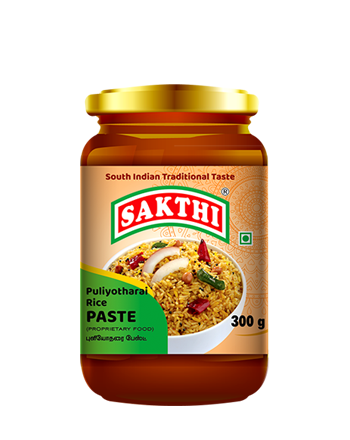VEG: (238, 231, 253, 246)
